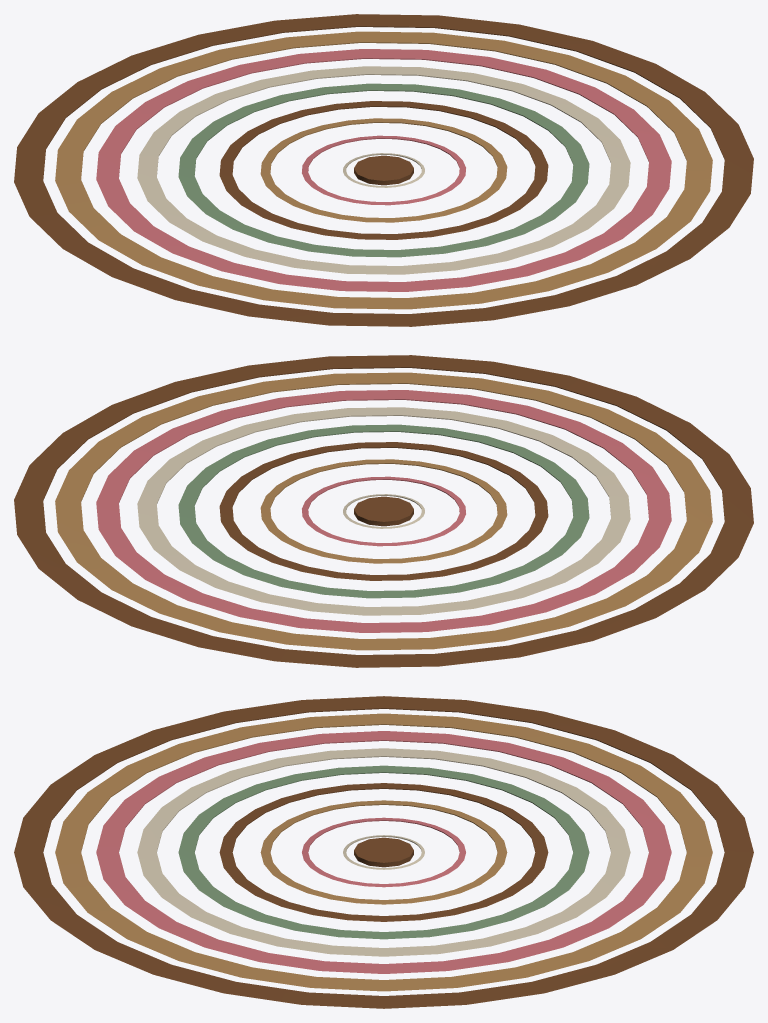
Rendered from braided_rug.glb.
3 views of the same model, one above another, from view 1: azimuth 30°, elevation 25°; view 2: azimuth 150°, elevation 25°; view 3: azimuth 270°, elevation 25° (orthographic).
Visible parts, largest first — view 1: furniture-braided_rug; view 2: furniture-braided_rug; view 3: furniture-braided_rug.
Boxes of the visible parts, box(x1,y1,x2,y2) form: furniture-braided_rug: box(14, 14, 753, 326); furniture-braided_rug: box(14, 355, 753, 667); furniture-braided_rug: box(14, 696, 753, 1008).
Size of the model in its own units: 2.91 by 0.0195 by 2.91.
